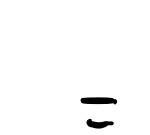eqv: (77, 93, 123, 133)
